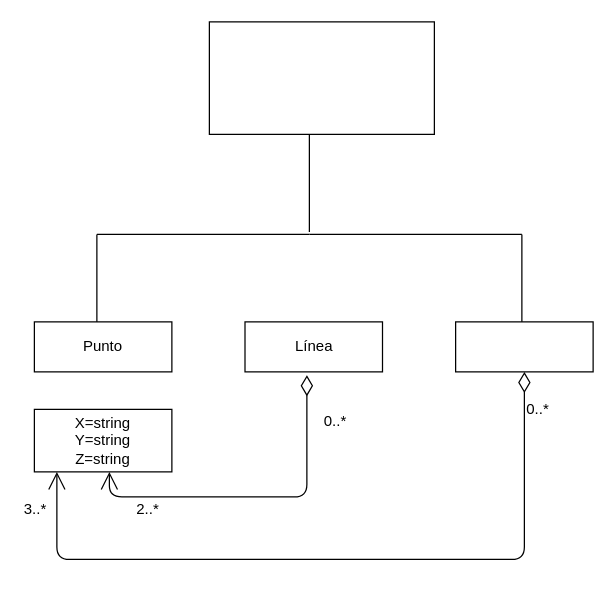
The diagram is 615 pixels wide and 603 high, and some of its shapes have lost their labels. Here are the shapes that lost their labels. From the top down, the centre of each, then its label:
the point at 321,77: Entidad Geográfica (A) Codigo:string Nombre:string
the point at 523,346: Área
